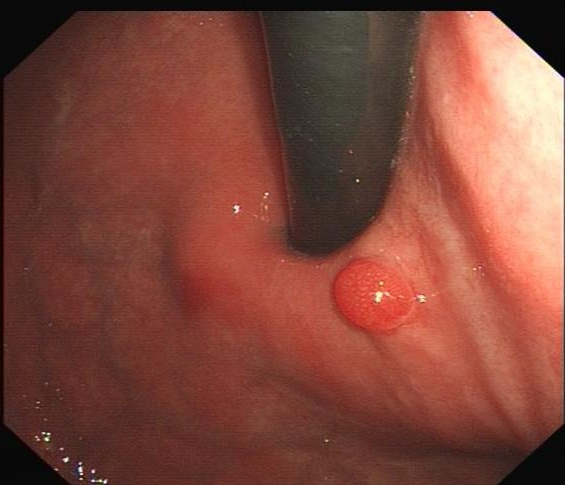Polyp: (315, 252, 431, 352)
